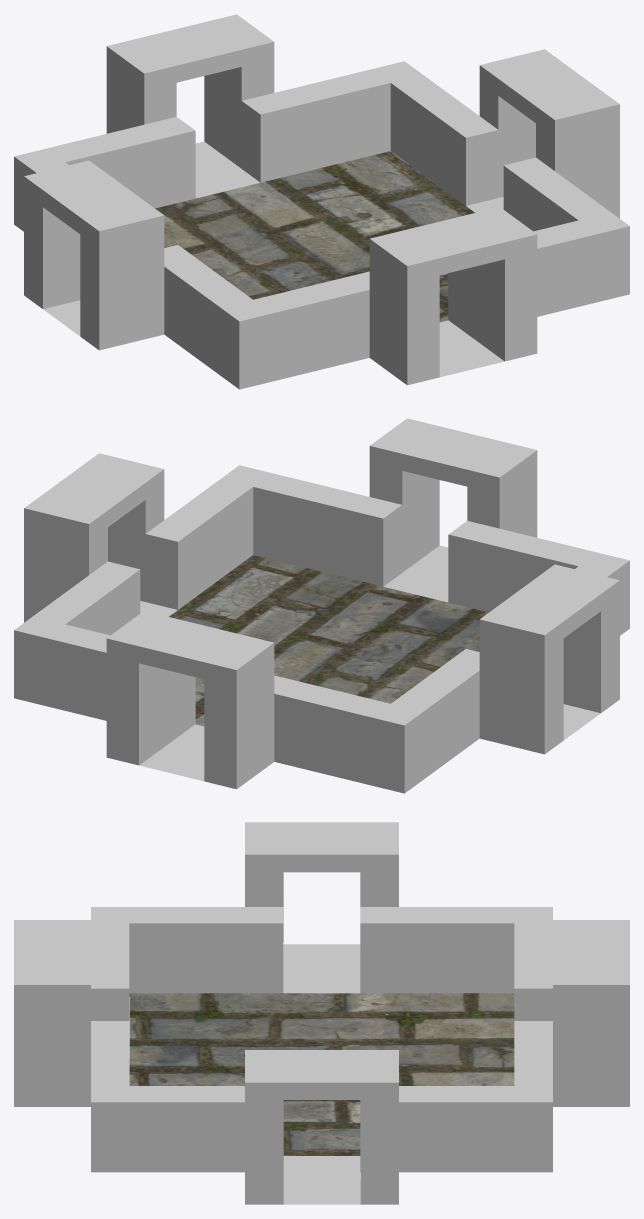
The model's file is 4exitRoom.fbx.
3 views of the same model, one above another, from view 1: azimuth 30°, elevation 25°; view 2: azimuth 150°, elevation 25°; view 3: azimuth 270°, elevation 25° (orthographic). The views are drawn at different scales.
Parts seen in each view (by area): view 1: Cube.005, Plane.005, Cube.009, Cube.007, Cube.008, Cube.006, Plane.008, Plane.007, Plane.006; view 2: Cube.005, Plane.005, Cube.008, Cube.007, Cube.009, Cube.006, Plane.007, Plane.008, Plane.006; view 3: Cube.005, Plane.005, Cube.006, Cube.008, Cube.009, Cube.007, Plane.006, Plane.004.
Boxes of the visible parts, x1,y1,x2,y2 form: Cube.005: (14,61,629,389); Plane.005: (155,151,474,322); Cube.009: (369,207,537,385); Cube.007: (24,160,164,350); Cube.008: (106,14,274,168); Cube.006: (479,49,619,218); Plane.008: (439,320,504,377); Plane.007: (195,141,260,198); Plane.006: (43,300,80,336); Cube.005: (14,465,629,793); Plane.005: (169,555,488,726); Cube.008: (106,611,274,789); Cube.007: (479,564,619,754); Cube.009: (369,418,537,572); Cube.006: (24,453,164,622); Plane.007: (139,724,204,781); Plane.008: (383,545,448,602); Plane.006: (563,704,600,740); Cube.005: (91,907,552,1172); Plane.005: (129,993,514,1155); Cube.006: (245,1050,398,1204); Cube.008: (553,920,629,1106); Cube.009: (14,920,90,1106); Cube.007: (245,822,398,941); Plane.006: (283,944,360,993); Plane.004: (283,1156,360,1204).
Size of the model in its own units: 320 by 70 by 320.
